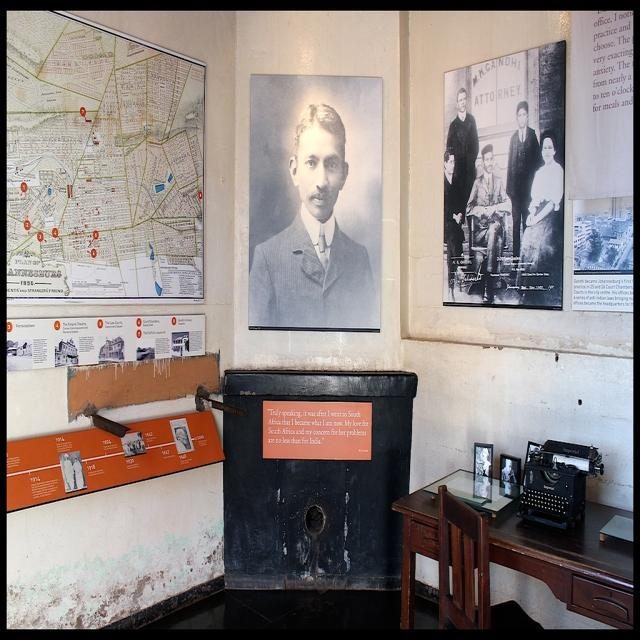chair: (436, 485, 491, 630)
desk: (397, 473, 632, 640)
person: (248, 100, 378, 331), (442, 80, 478, 273), (510, 100, 542, 259)
